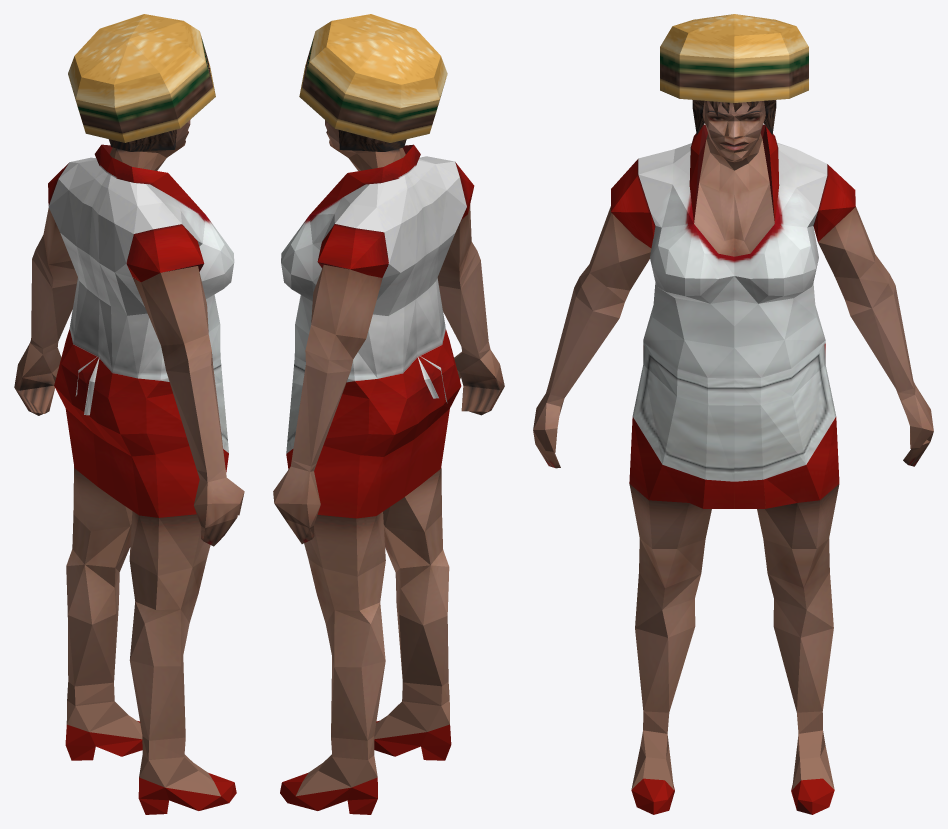
The model's file is wfyburg.obj.
The picture shows the model from 3 angles, left to right: view 1: azimuth 30°, elevation 25°; view 2: azimuth 150°, elevation 25°; view 3: azimuth 270°, elevation 25°; orthographic projection. The views are drawn at different scales.
Parts seen in each view (by area): view 1: _Pelvis; view 2: _Pelvis; view 3: _Pelvis.
Part boxes in pixels (x1=…): _Pelvis: x1=14, y1=14, x2=244, y2=814; _Pelvis: x1=273, y1=14, x2=504, y2=814; _Pelvis: x1=533, y1=14, x2=933, y2=814.
Size of the model in its own units: 0.3752 by 1.98 by 0.9311.
1 material, 1 textured.
